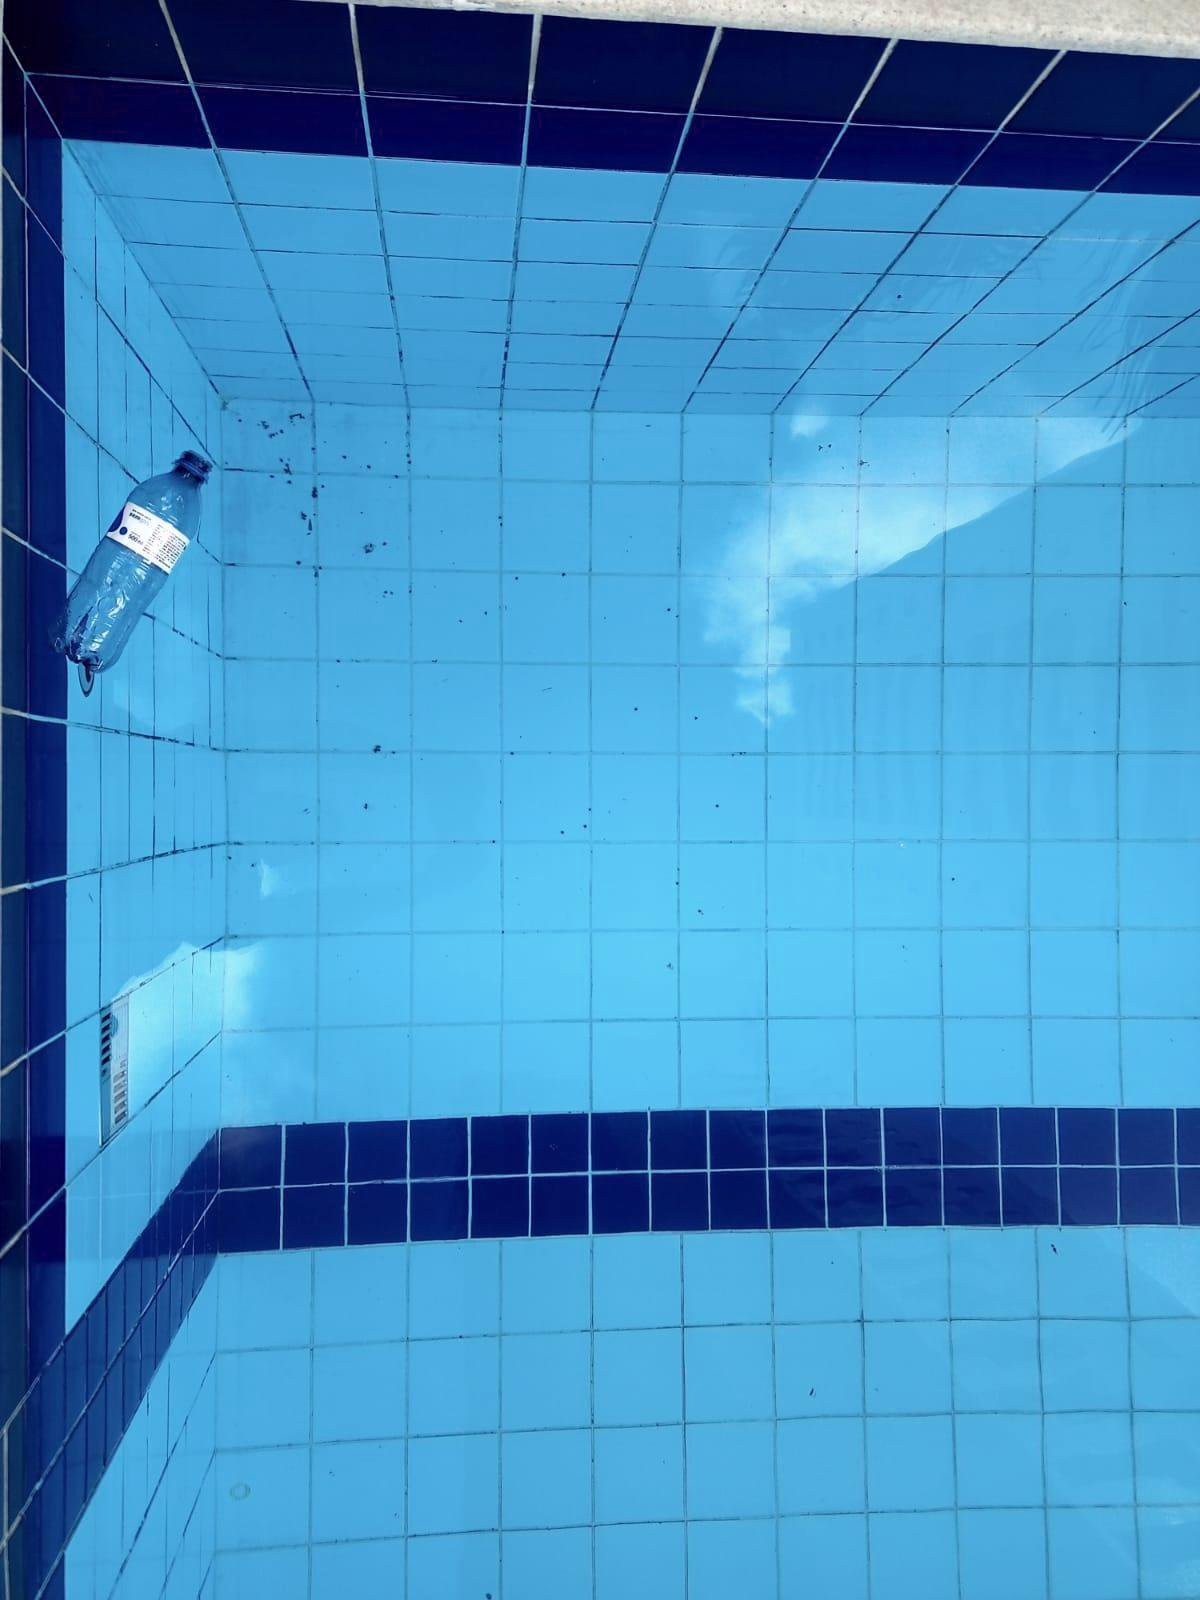Plastic: (42, 409, 297, 690)
